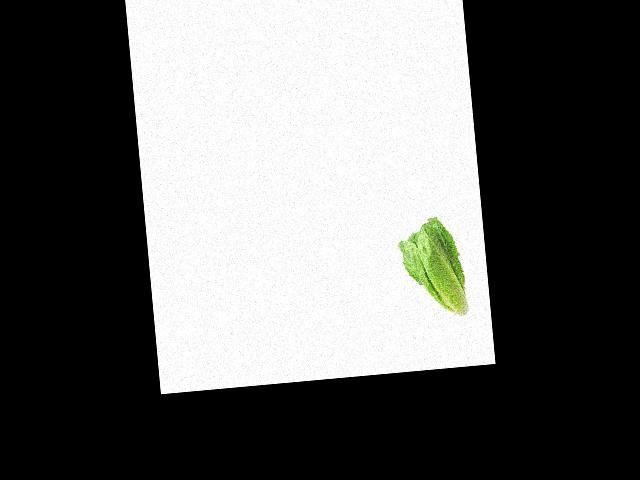lettuce: (388, 197, 489, 312)
